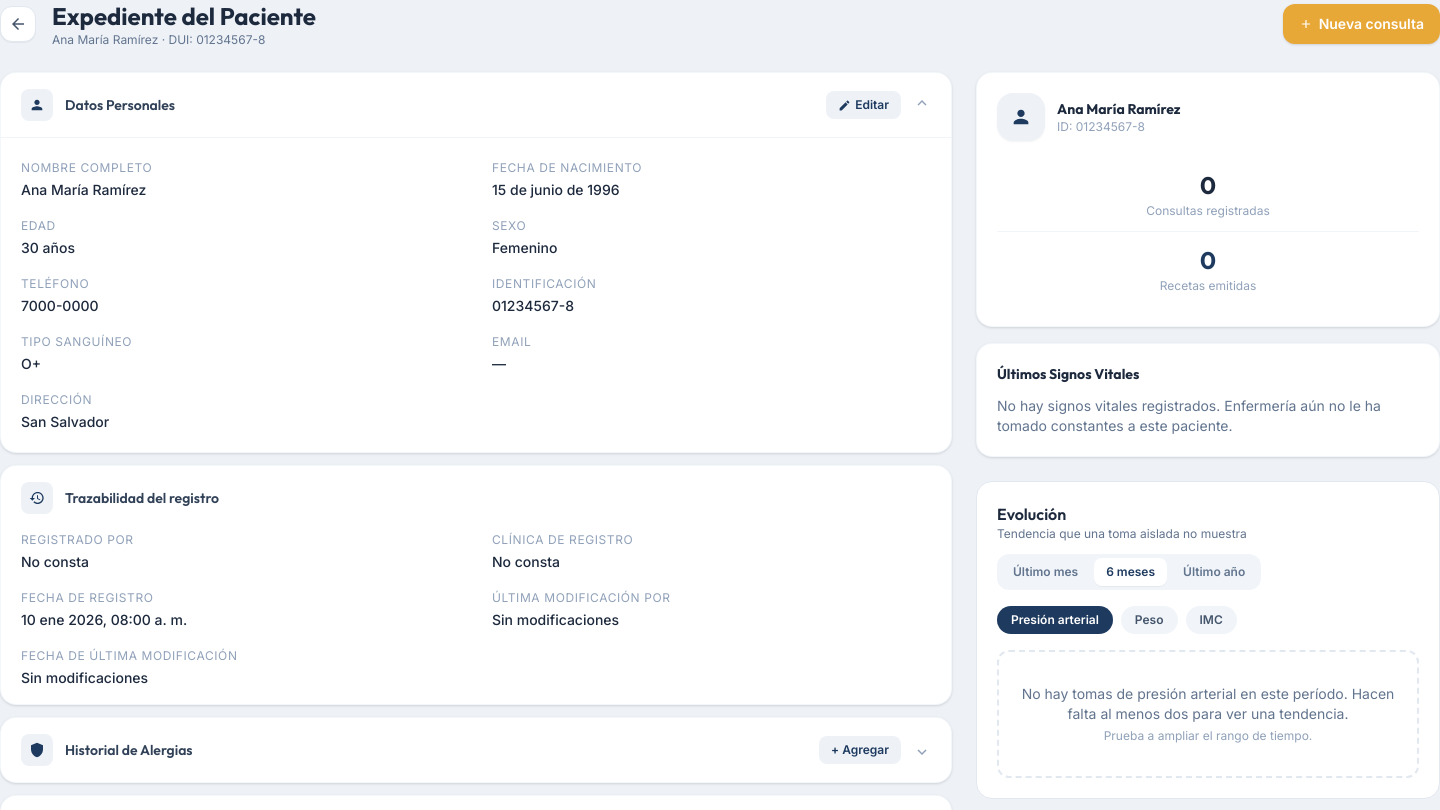
Scenario: expediente · alergias del paciente (HU-11) › c2: una severa recién registrada aparece arriba sin recargar
Click the button "+ Agregar" at x=860, y=750, box [819,736,901,764]
(page scrolled)
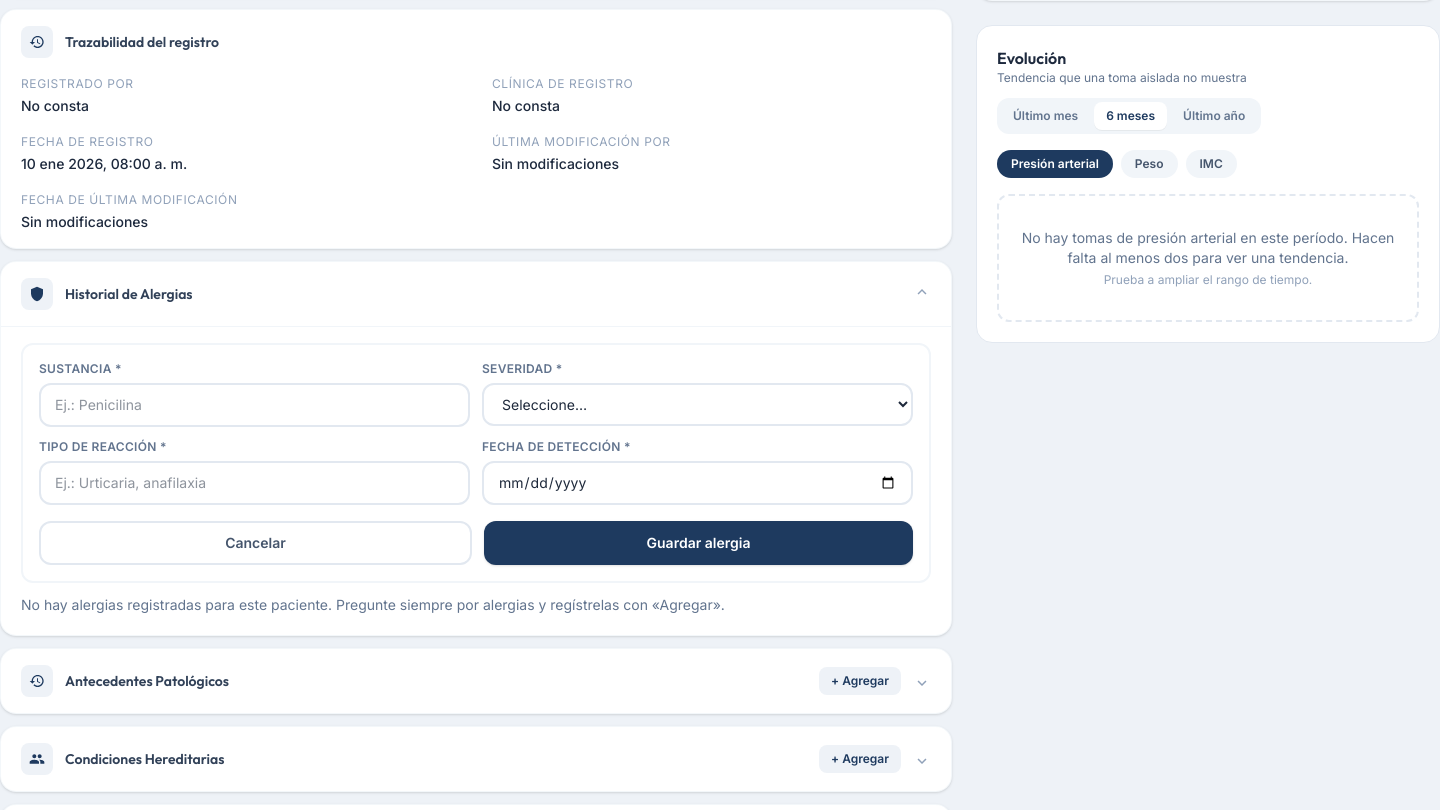
Type "Yodo" into the field labelled "Sustancia *" at x=254, y=405, box [39,383,470,427]
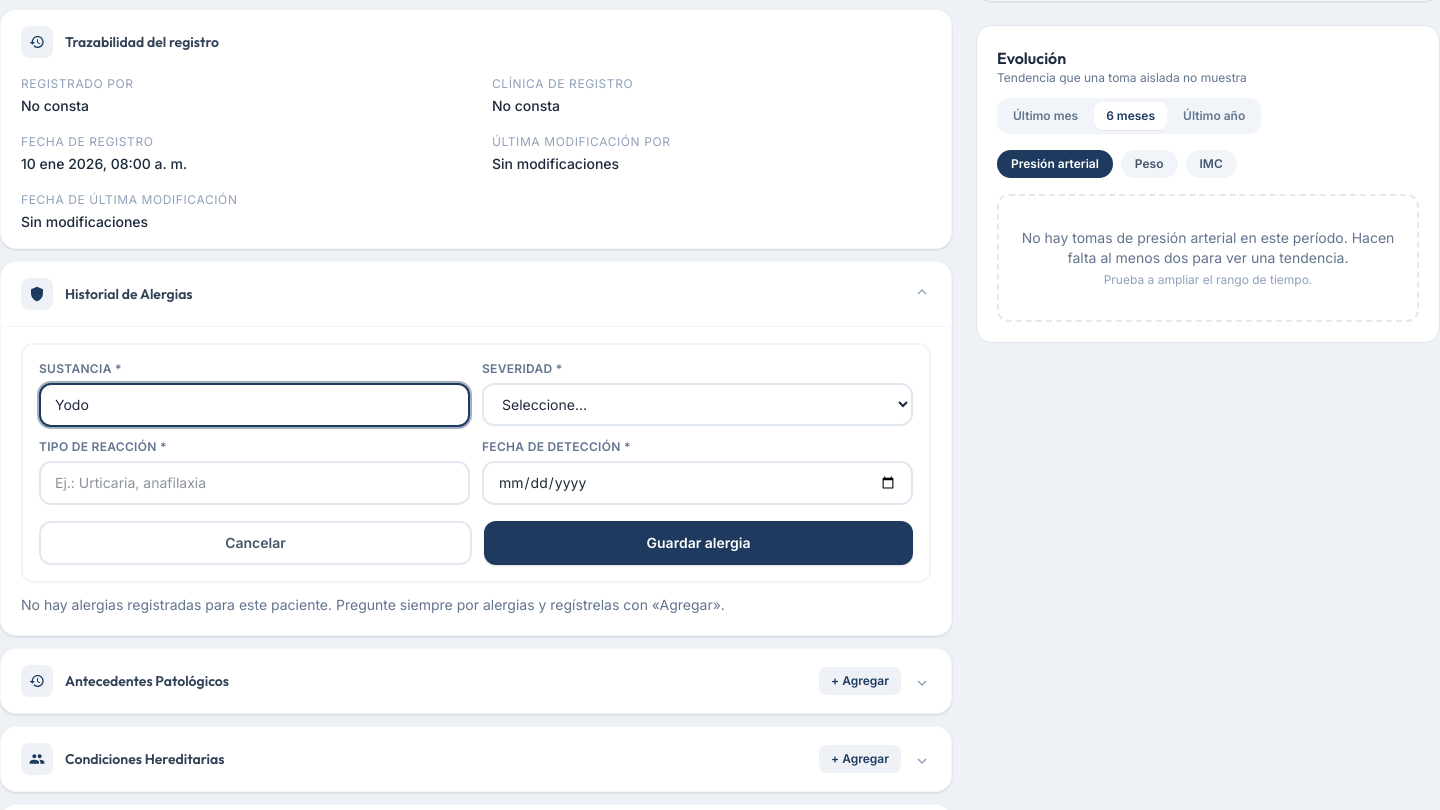
Type "Anafilaxia" into the field labelled "Tipo de reacción *" at x=254, y=483, box [39,461,470,505]
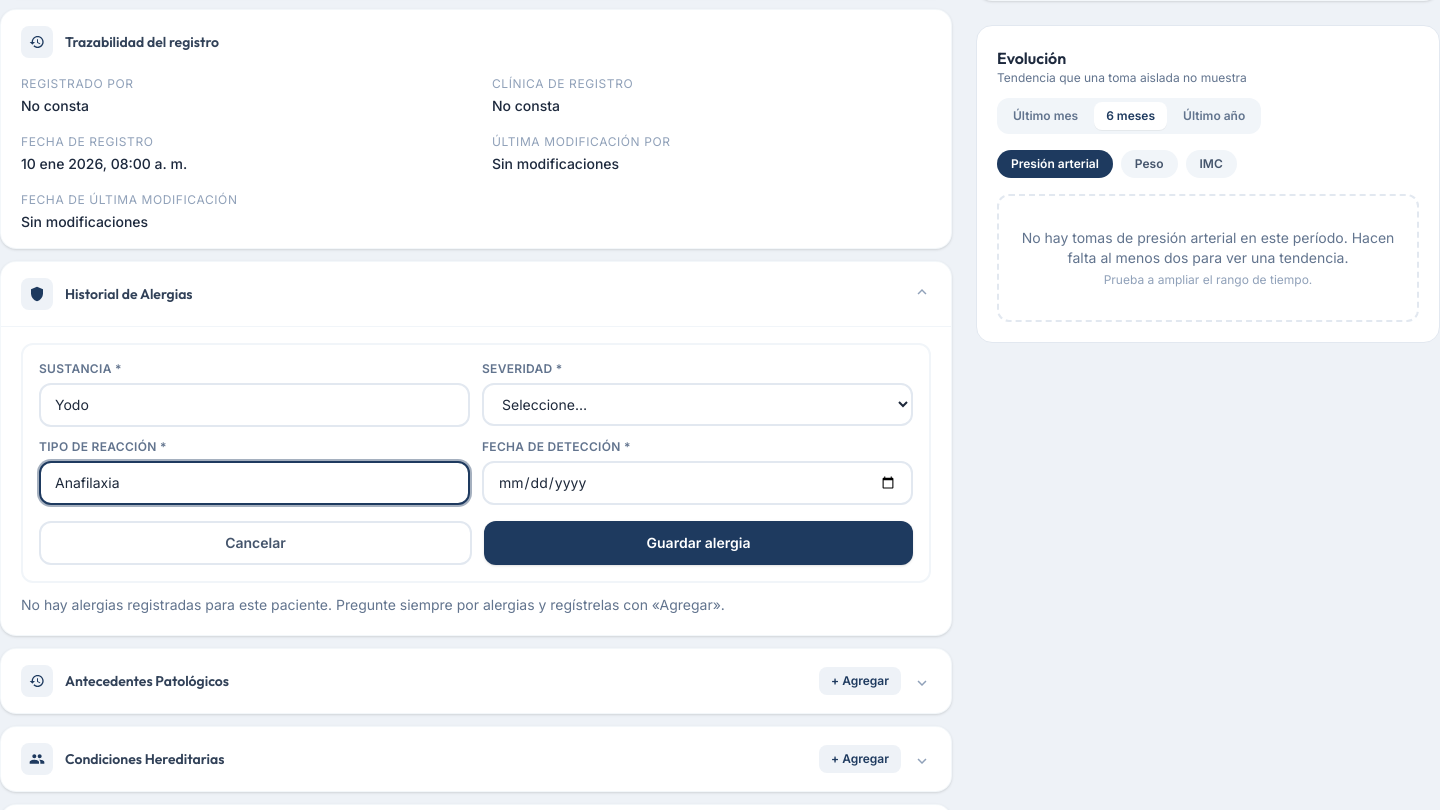
Select "Severa" in the dropdown labelled "Severidad *" at x=698, y=404, box [482,383,913,426]
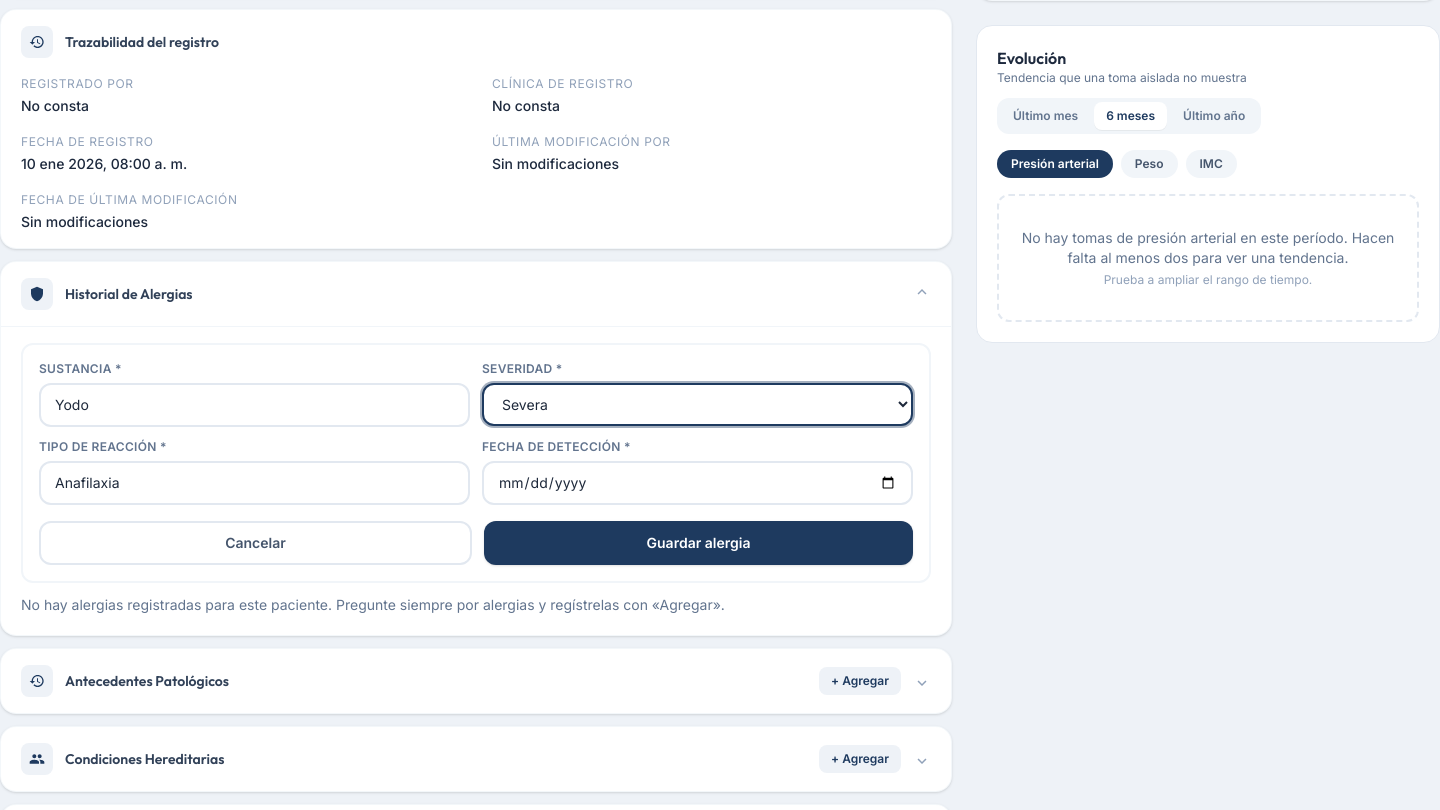
Type "2024-02-02" into the date field labelled "Fecha de detección *" at x=698, y=483, box [482,461,913,505]
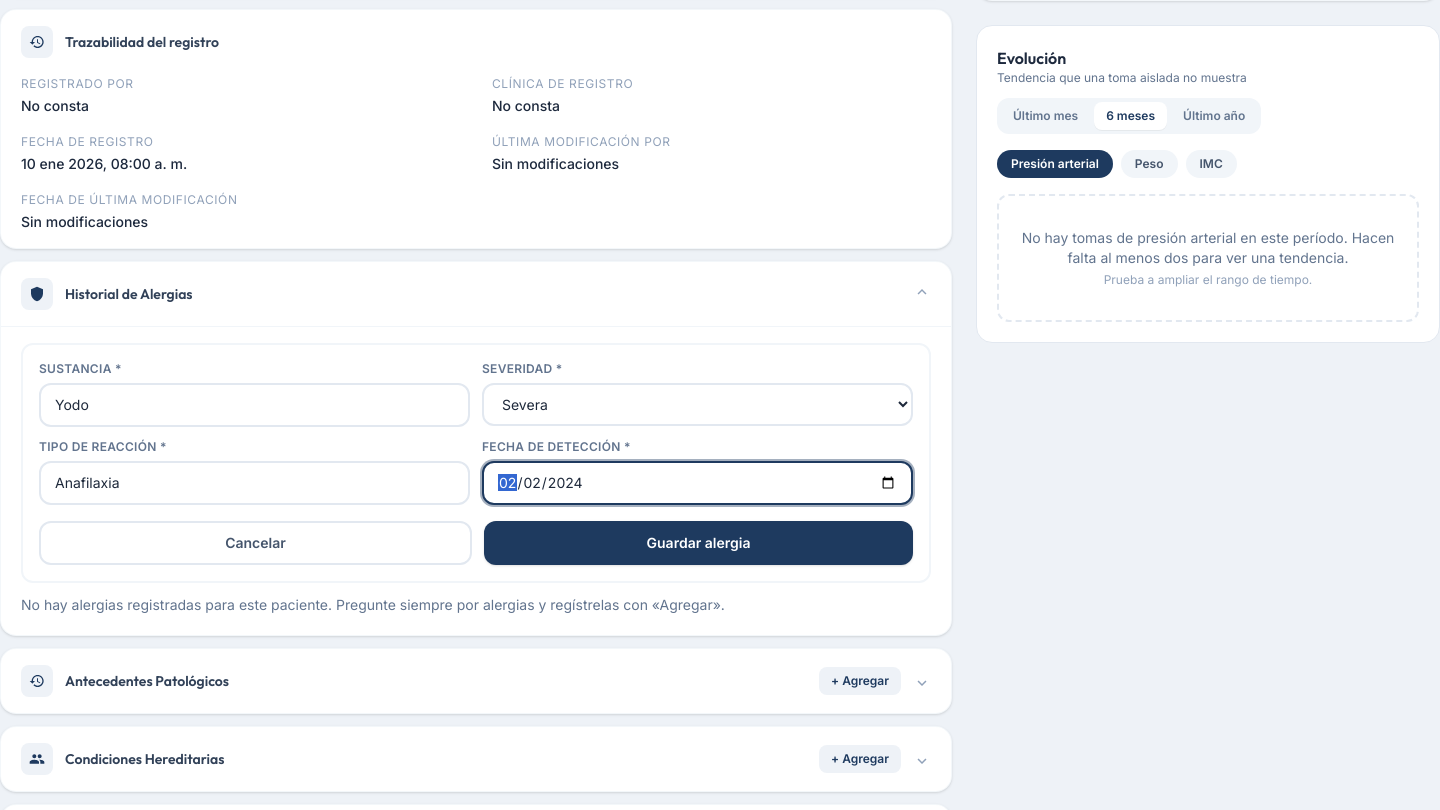
Click the button "Guardar alergia" at x=698, y=543, box [484,521,913,565]
(page scrolled)
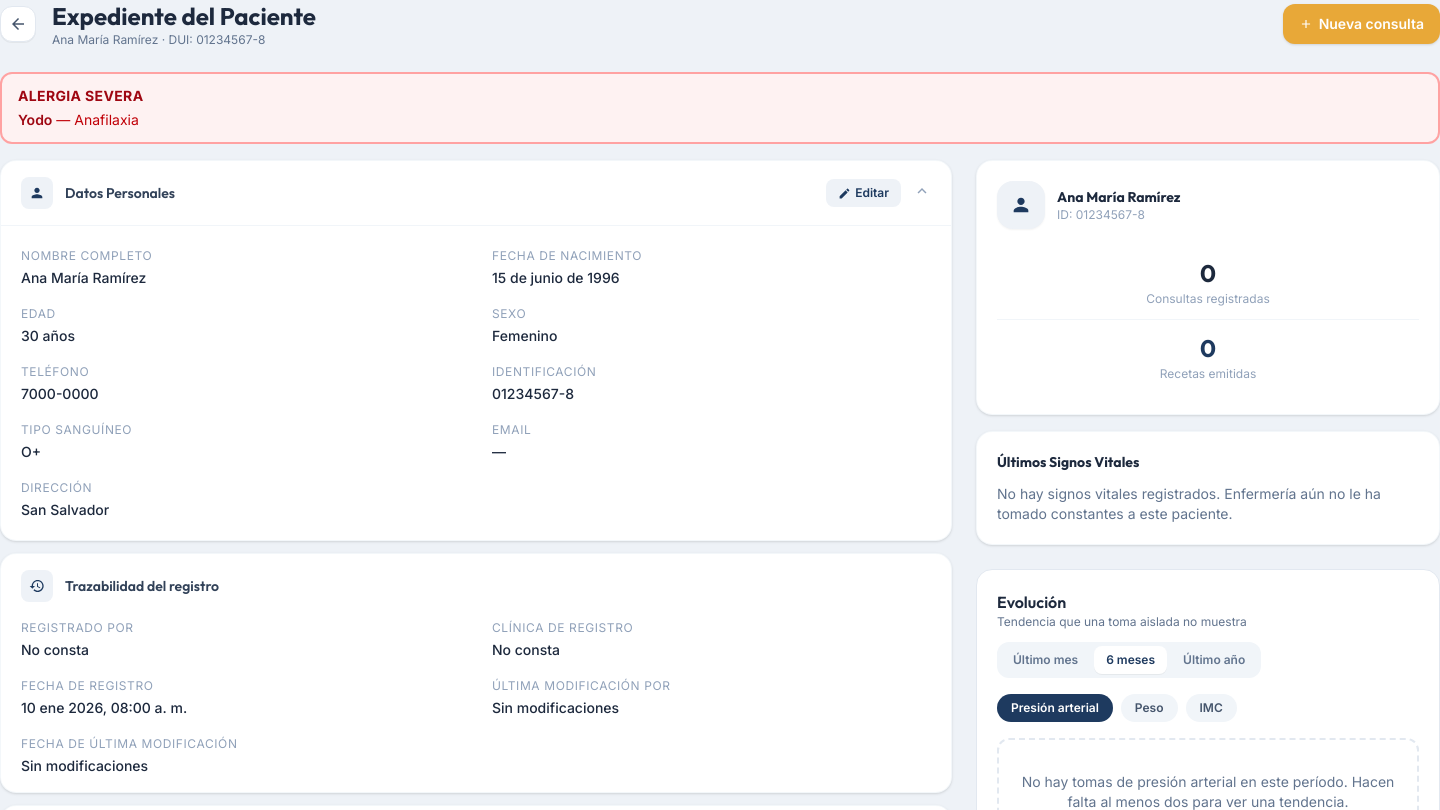
Now the text "Yodo" is shown, box [18,111,52,128]
